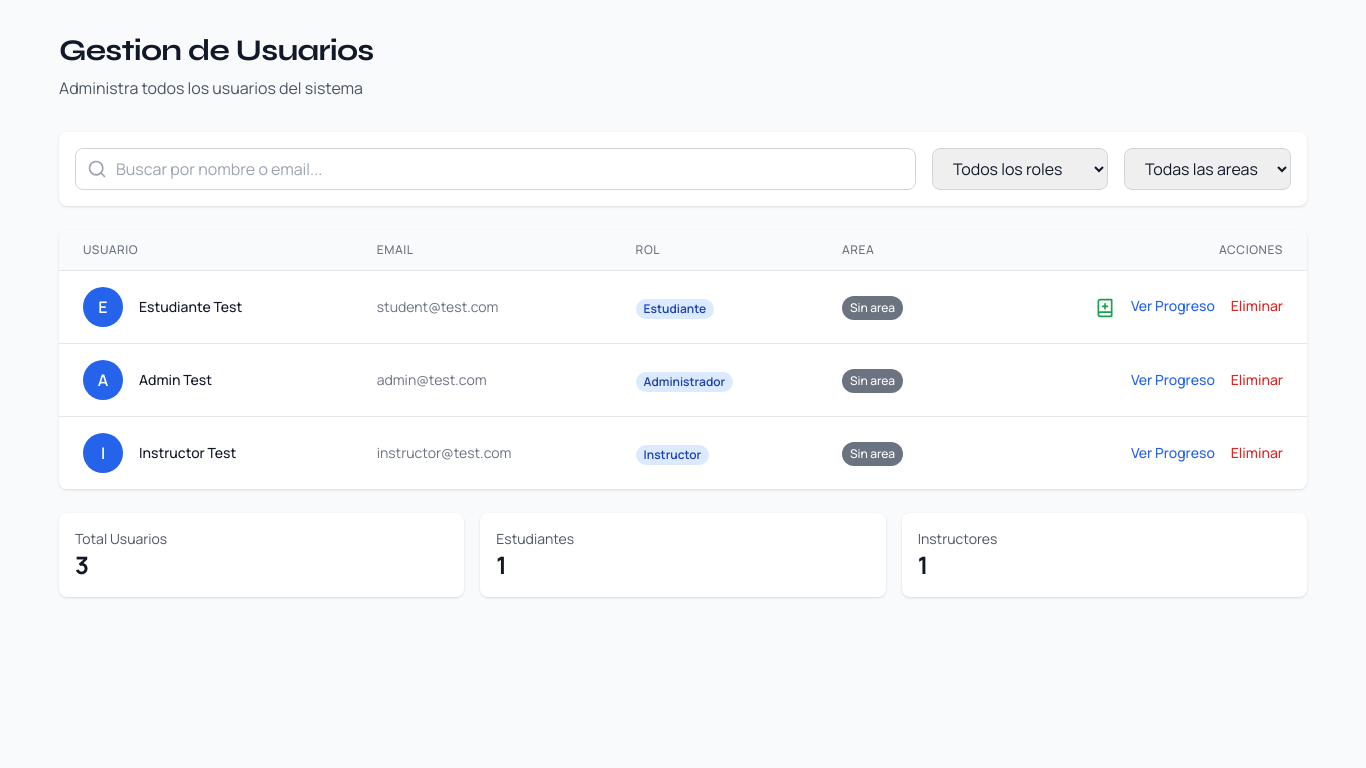
Scenario: UsersList Page › Search and Filter › should filter users by role
Check: the text "Estudiante Test" is shown, box [139, 297, 242, 317]
Select "Estudiantes" in the 1st dropdown showing "Todos los roles" at (1020, 169), box [932, 148, 1108, 190]
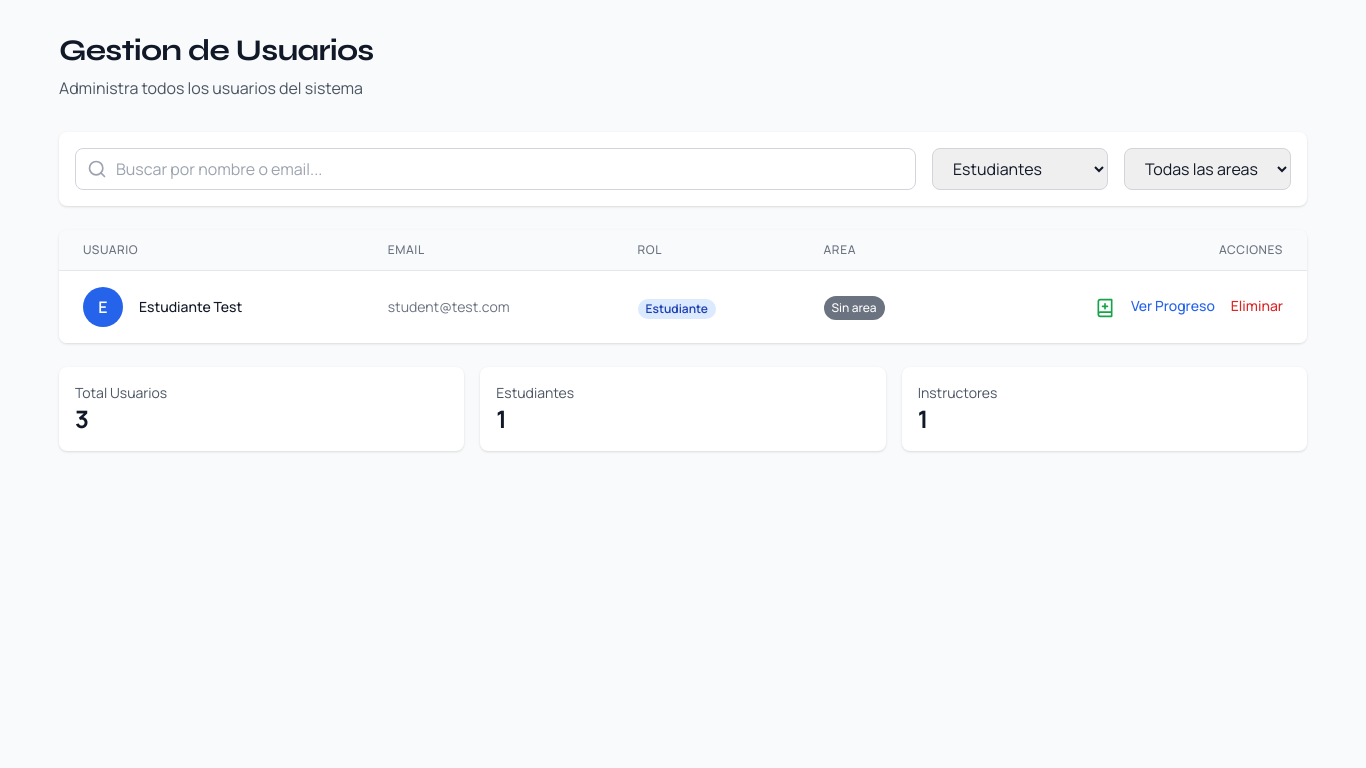
Check: the text "Estudiante Test" is shown, box [139, 297, 242, 317]
Check: the text "Admin Test" is gone
